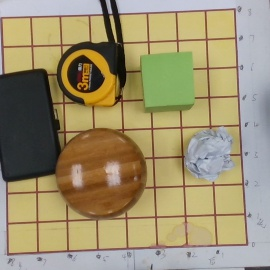chess: (58, 129, 146, 218)
